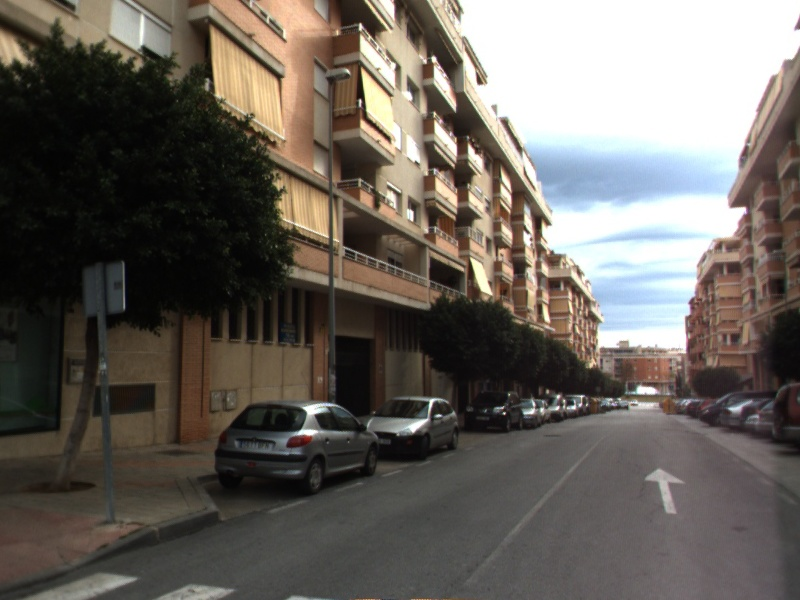STRAIGHT: (642, 466, 688, 516)
